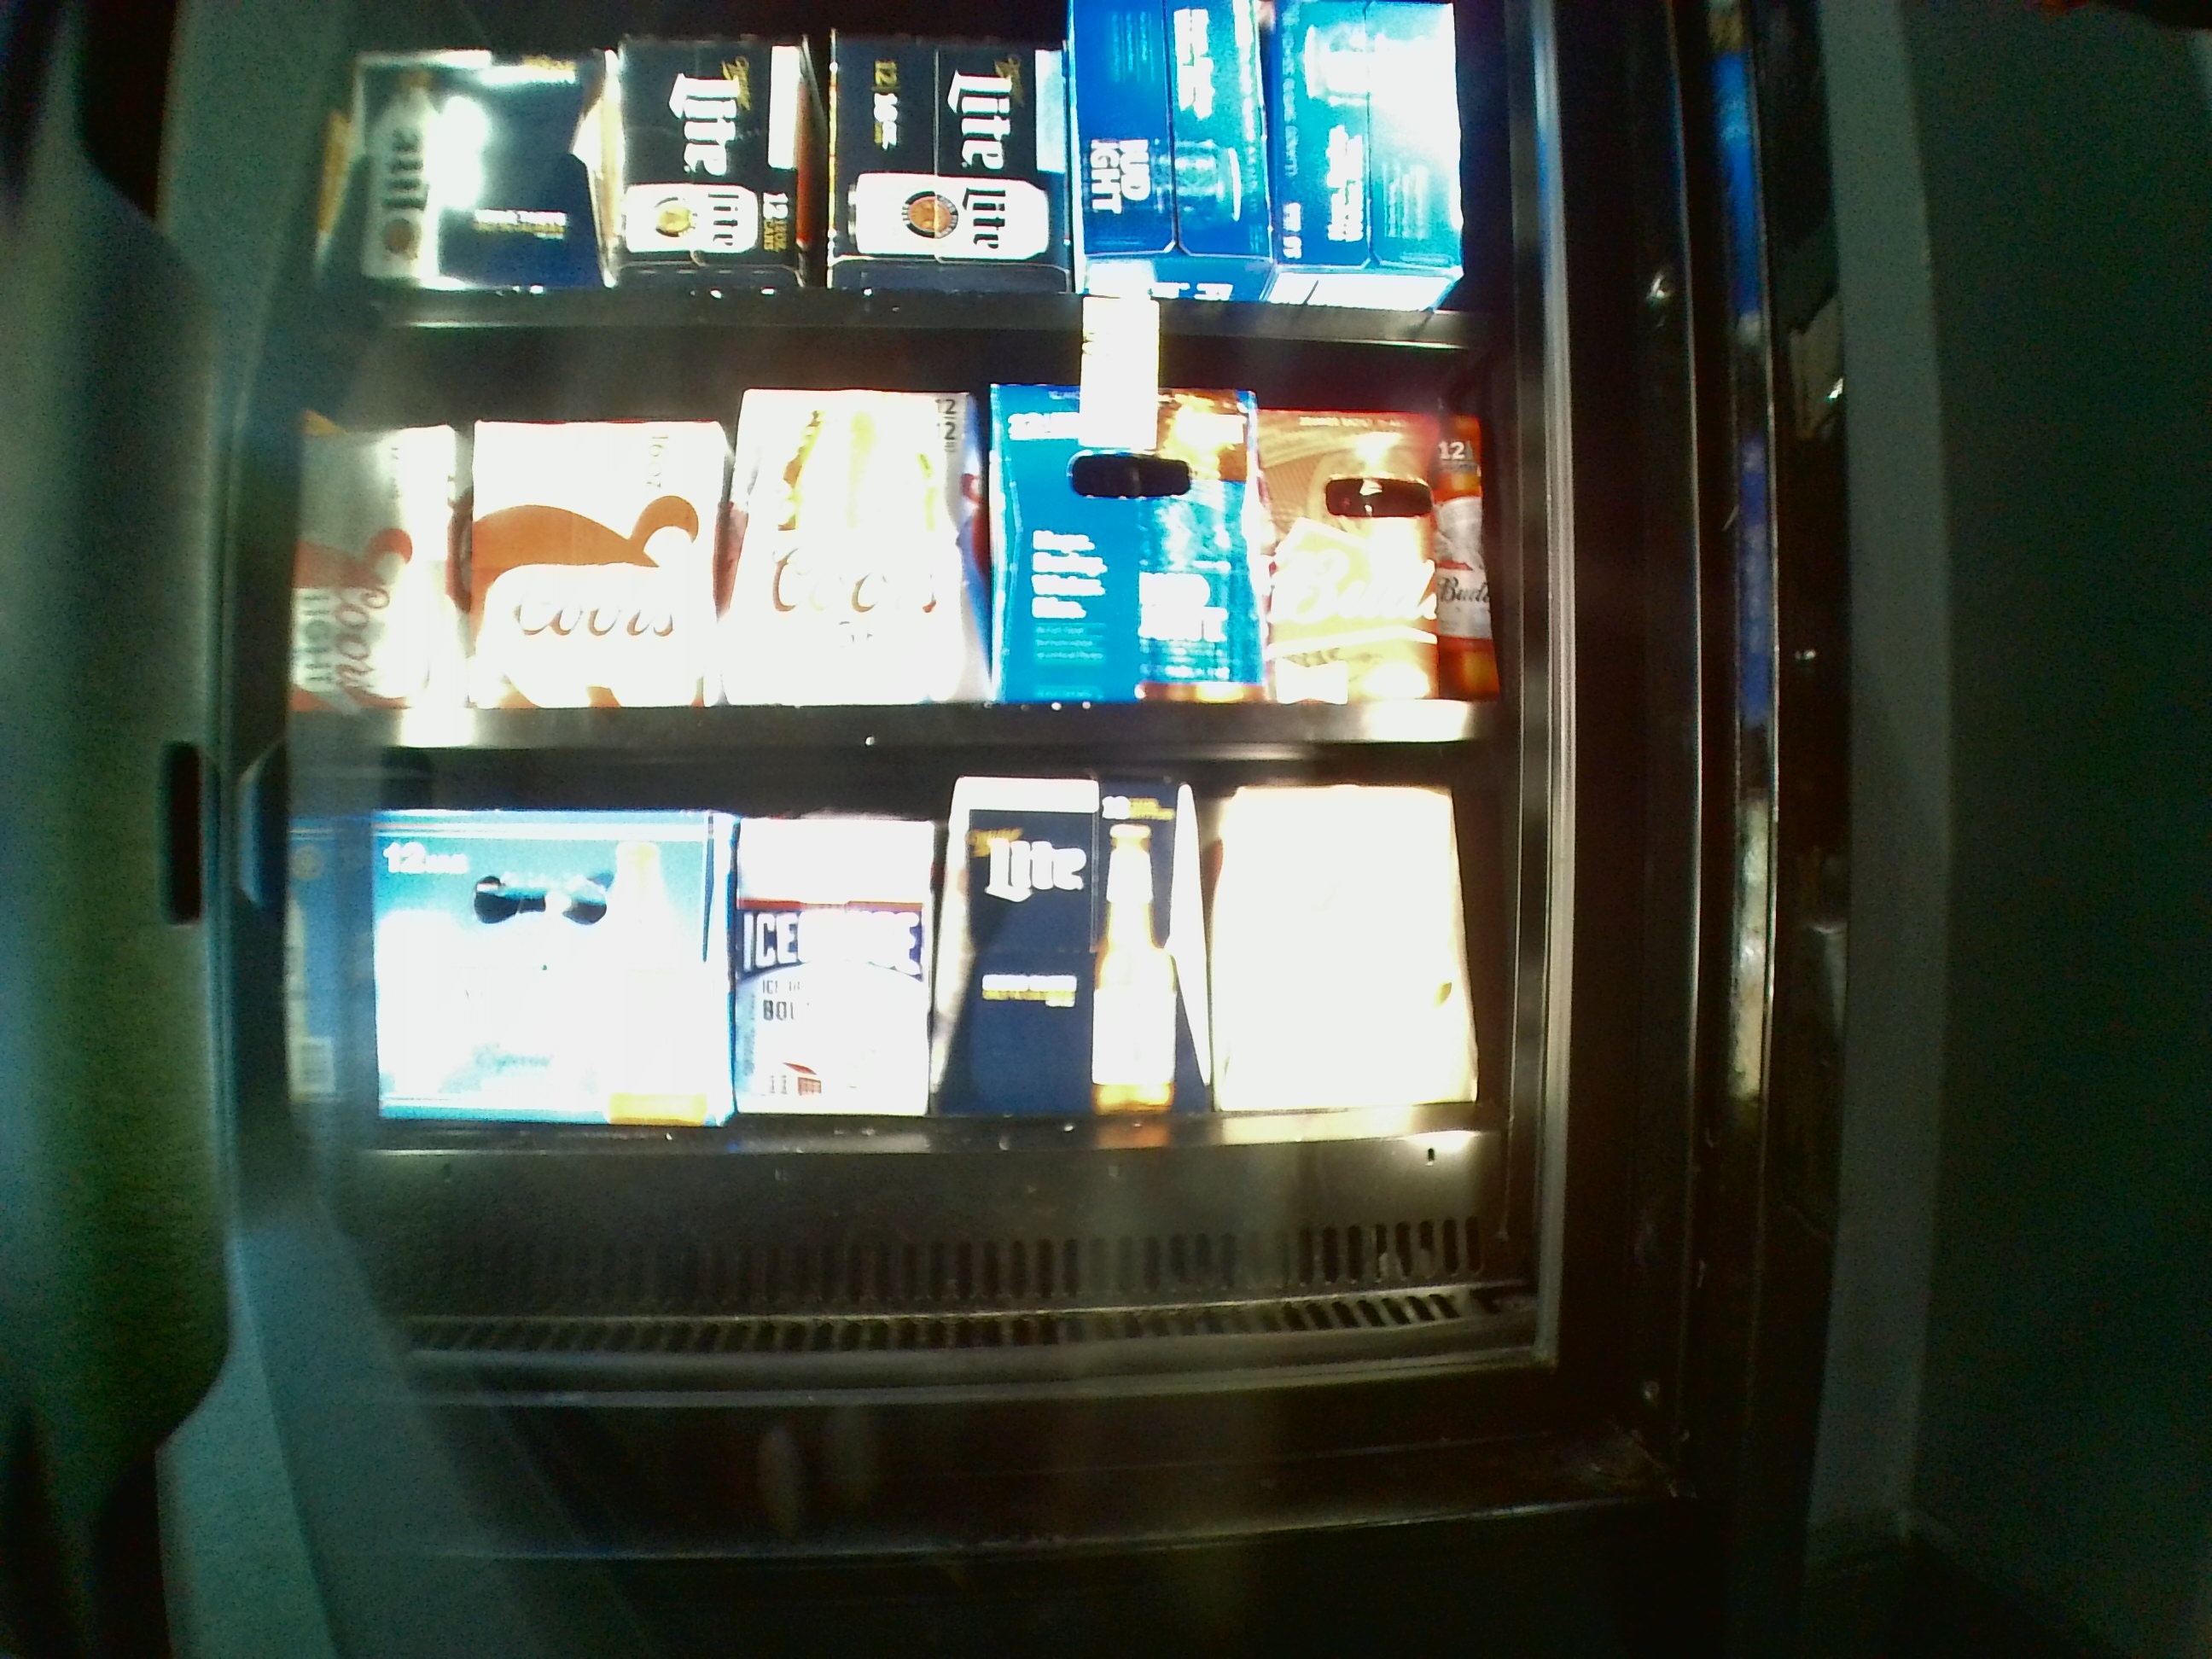shelf: (364, 763, 1498, 1293), (373, 347, 1510, 769), (355, 2, 1507, 343)
